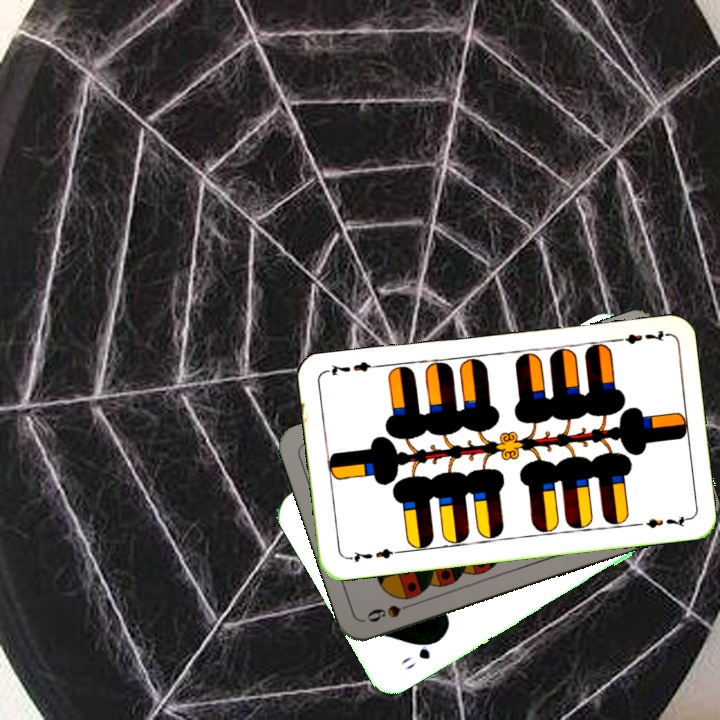E7: (610, 326, 669, 347), (343, 544, 402, 564)
GO: (396, 634, 443, 672)
S9: (363, 597, 420, 625)
